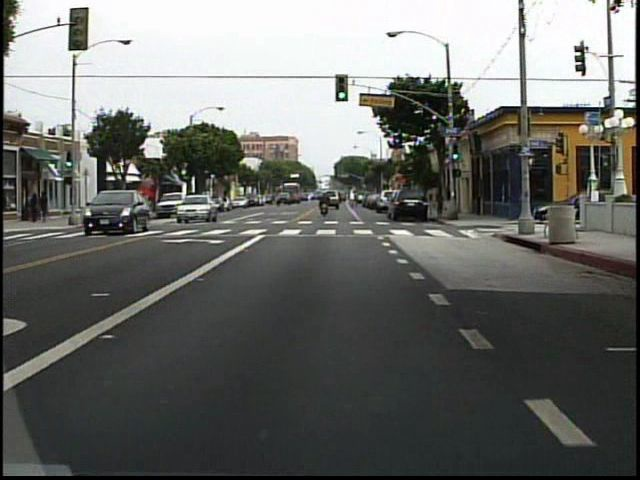person: (29, 192, 42, 225), (41, 190, 53, 222), (317, 189, 330, 217)
